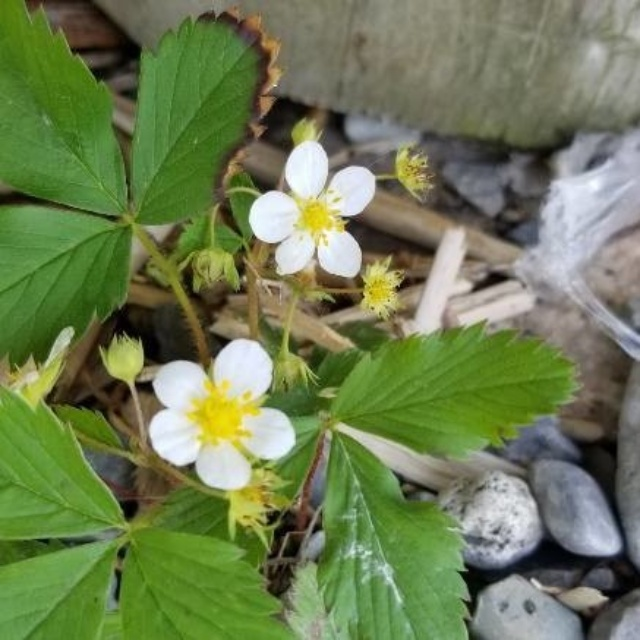obstacle: (76, 50, 470, 609)
